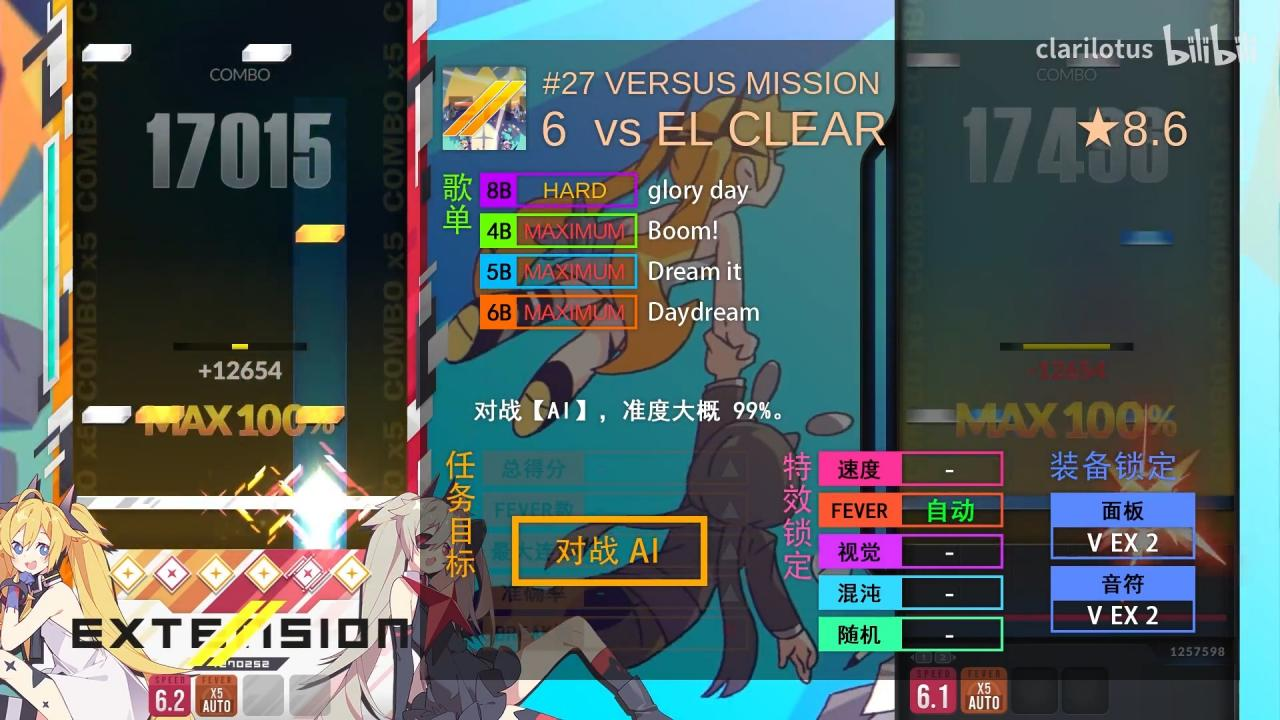note: (82, 405, 132, 424), (295, 224, 345, 243), (295, 406, 345, 424), (242, 44, 292, 62), (82, 44, 132, 62), (135, 406, 185, 423)
